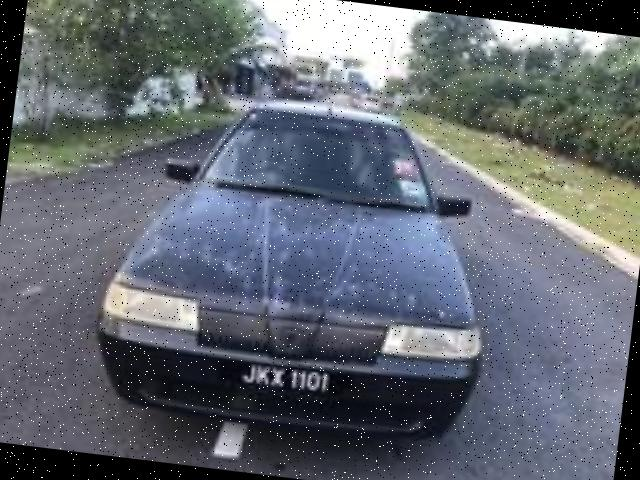License_Plate: (217, 357, 351, 408)
car: (90, 77, 507, 446)
